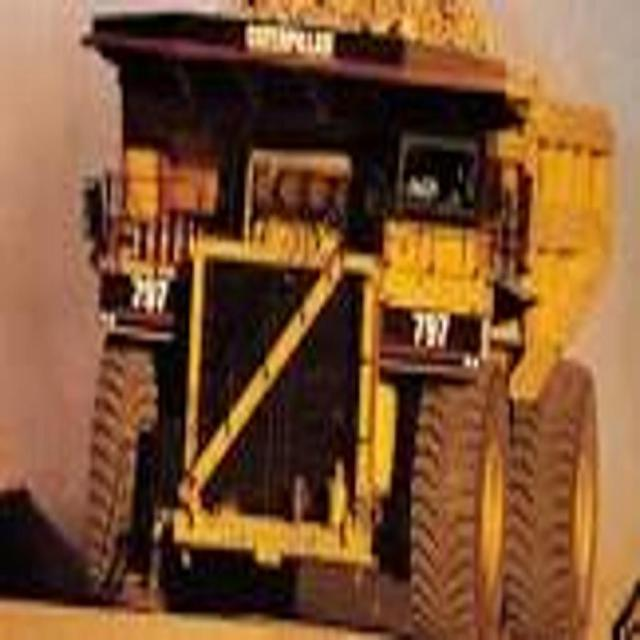dump_truck: (80, 0, 616, 640)
